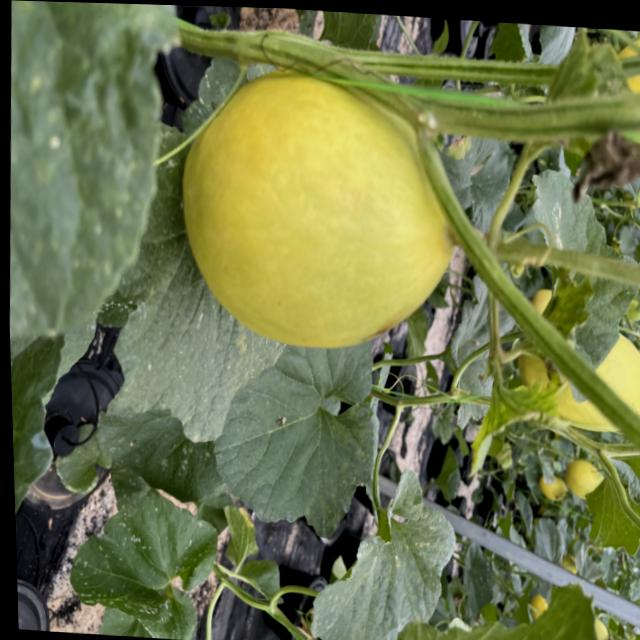downy mildew: (295, 470, 465, 640)
healthy: (214, 332, 384, 536)
powdery mildew: (69, 481, 222, 640)
